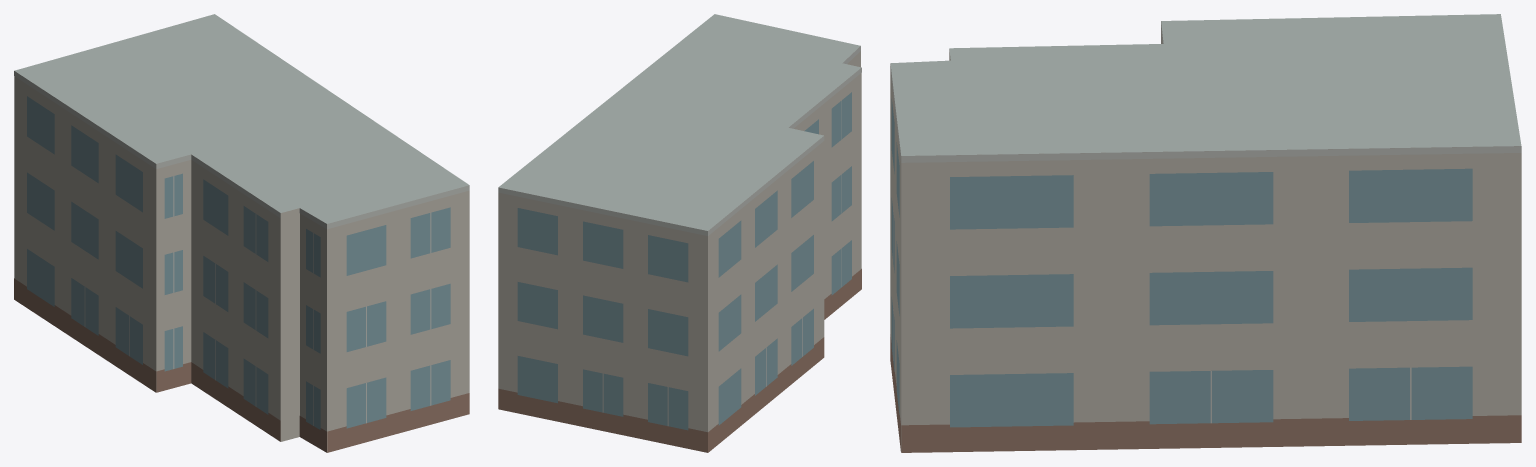
File: survey-upis-32577610.glb
The picture shows the model from 3 angles, left to right: view 1: azimuth 30°, elevation 25°; view 2: azimuth 150°, elevation 25°; view 3: azimuth 270°, elevation 25°; orthographic projection. The views are drawn at different scales.
Visible parts, largest first — view 1: survey-upis-32577610.tmp; view 2: survey-upis-32577610.tmp; view 3: survey-upis-32577610.tmp.
Part boxes in pixels (x1,y1,x2,y2): survey-upis-32577610.tmp: [14, 14, 469, 452]; survey-upis-32577610.tmp: [498, 14, 861, 452]; survey-upis-32577610.tmp: [890, 14, 1521, 452].
Size of the model in its own units: 10.82 by 10.54 by 20.32.
